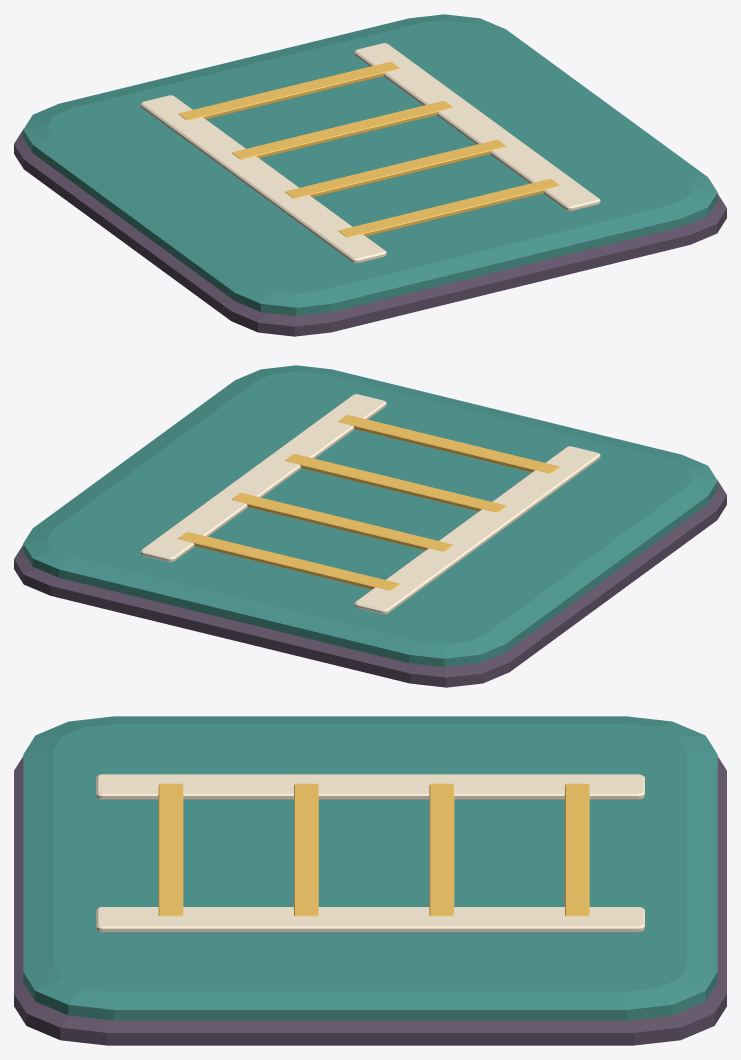
Rendered from tile_station.glb.
The picture shows the model from 3 angles, top to bottom: view 1: azimuth 30°, elevation 25°; view 2: azimuth 150°, elevation 25°; view 3: azimuth 270°, elevation 25°; orthographic projection. The views are drawn at different scales.
Visible parts, largest first — view 1: model; view 2: model; view 3: model.
Part boxes in pixels (x1,y1,x2,y2): model: (14,14,726,336); model: (14,365,726,687); model: (14,716,726,1045).
Bounding box in the file's own units: 2 × 0.16 × 2.
